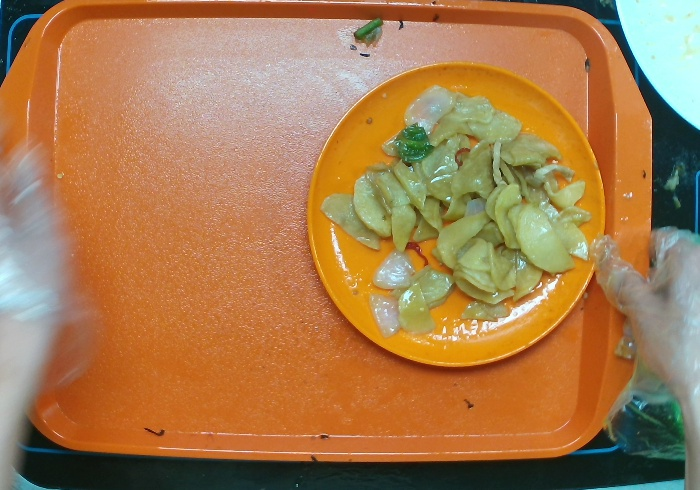HZYJPL-Ju_Huang_Yuan_Pan: (305, 61, 608, 369)
